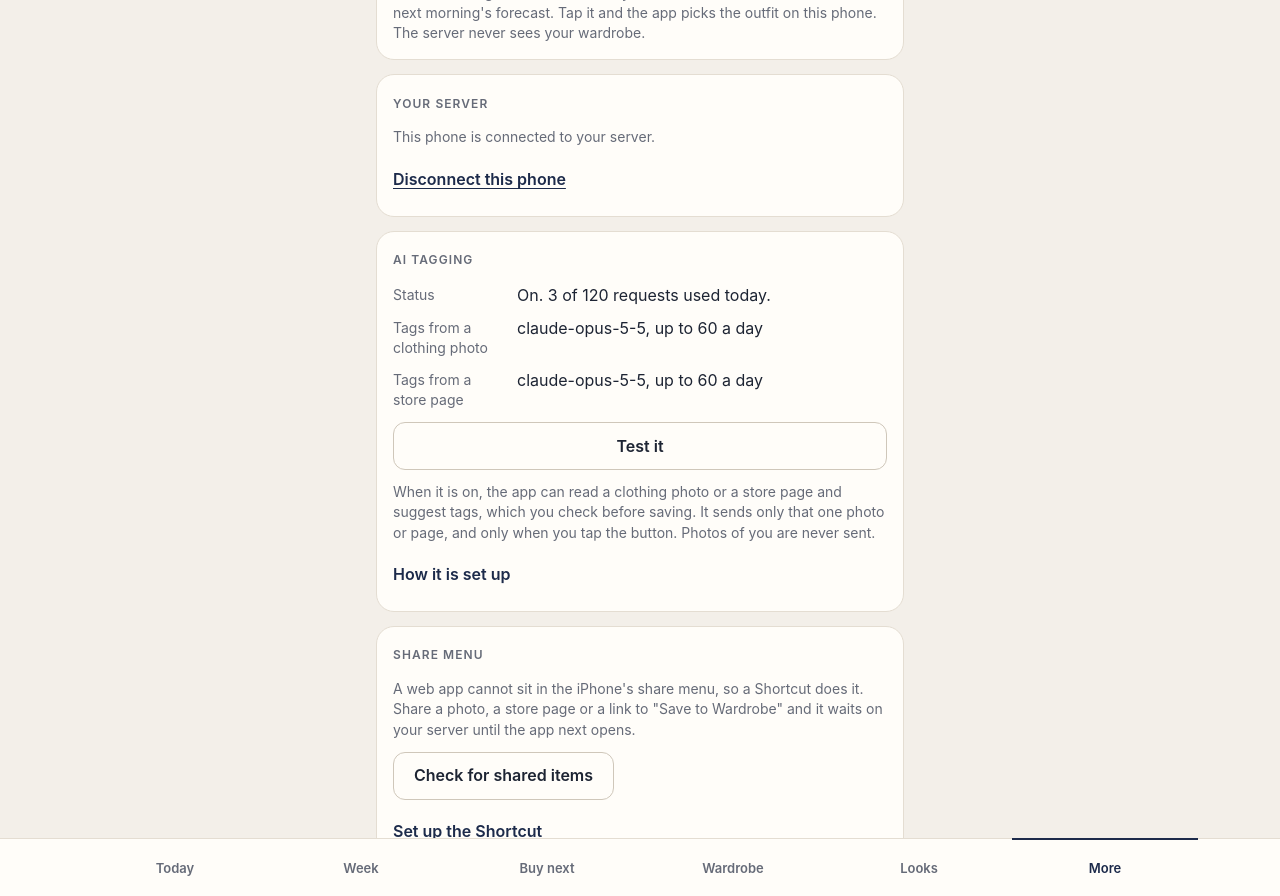
Test: AI tagging in Settings › shows the count and the models when it is on, and tests with a blank square
(page scrolled)
Expected: the text "On. 3 of 120 requests used today." is shown, [517,285,771,305]
Expected: the text "Tags from a clothing photo" is shown, [393,319,488,356]
Step 1. Click the button "Test it" → (640,446), box [393,422,887,470]
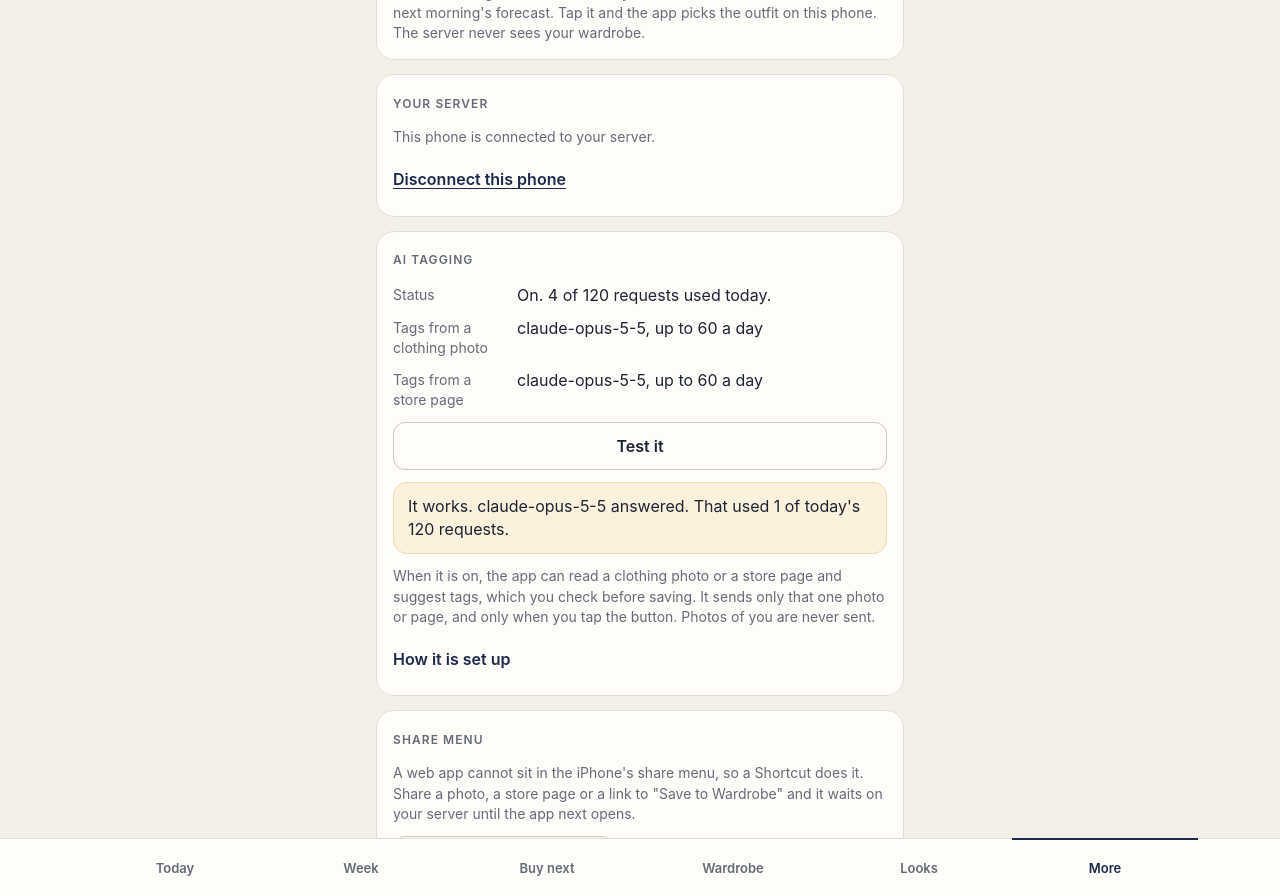
Expected: the text "It works. claude-opus-5-5 answered. That used 1 of today's 120 requests." is shown, [393,482,887,554]
Expected: the text "On. 4 of 120 requests used today." is shown, [517,285,771,305]
